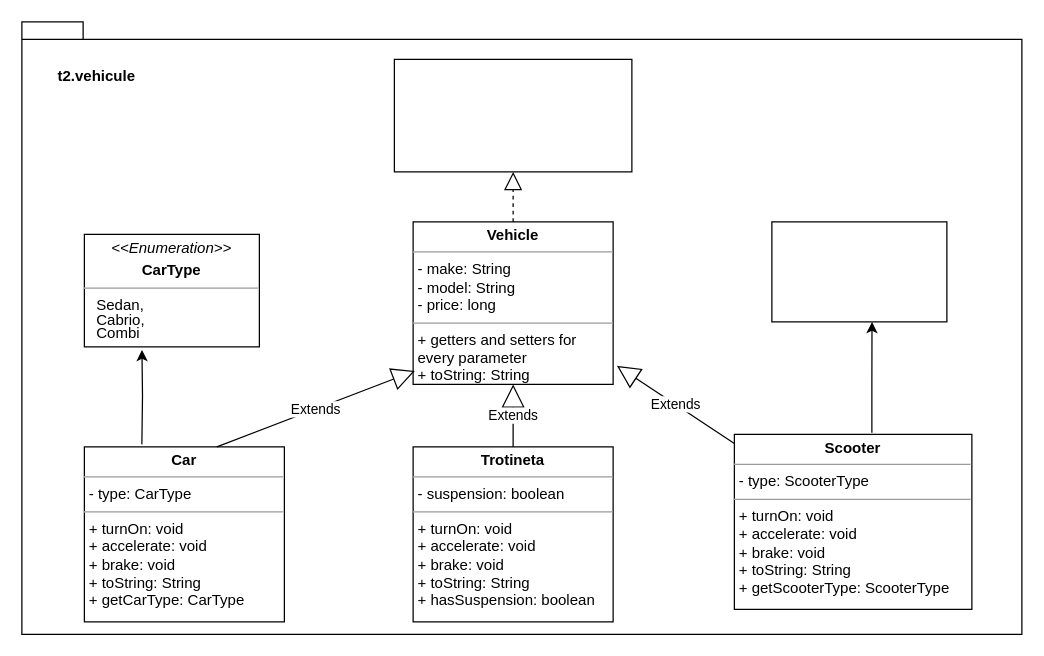
This 1044x656 diagram has some shape labels left out. Each missing label, with the centre of its shape:
<<Enumeration>> ScooterType Electric, Fuel: point 859,271
<<Interface>> VehicleInterface + turnOn: void + accelerate: void + brake: void: point 512,115
